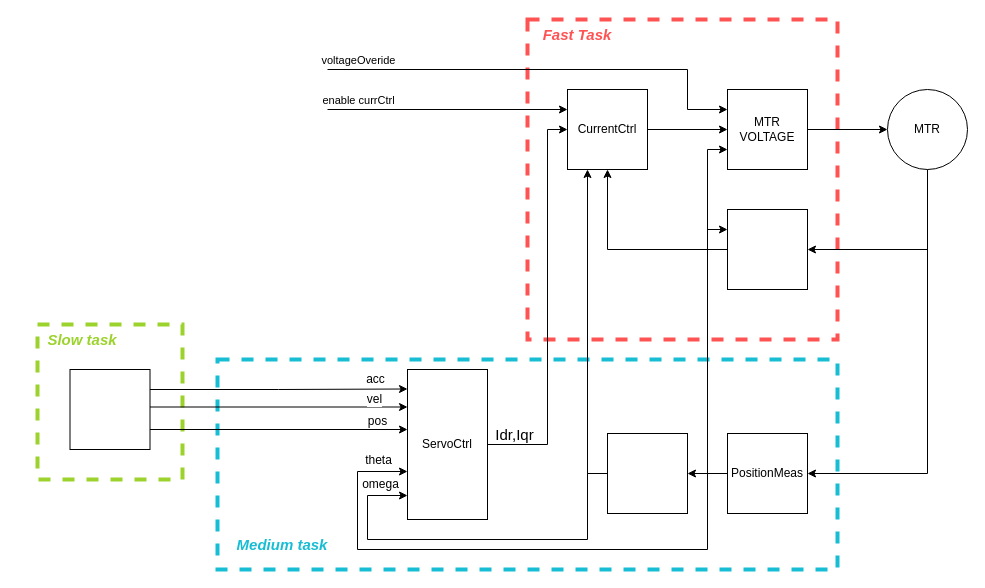
Some shapes in this 985 by 588 pixel diagram are drawn without their labels. Each missing label, with the centre of its shape:
"CURRENT SENS" goes at point (767, 249).
"TrajectoryGen" goes at point (109, 409).
"VelocityEst" goes at point (647, 473).
